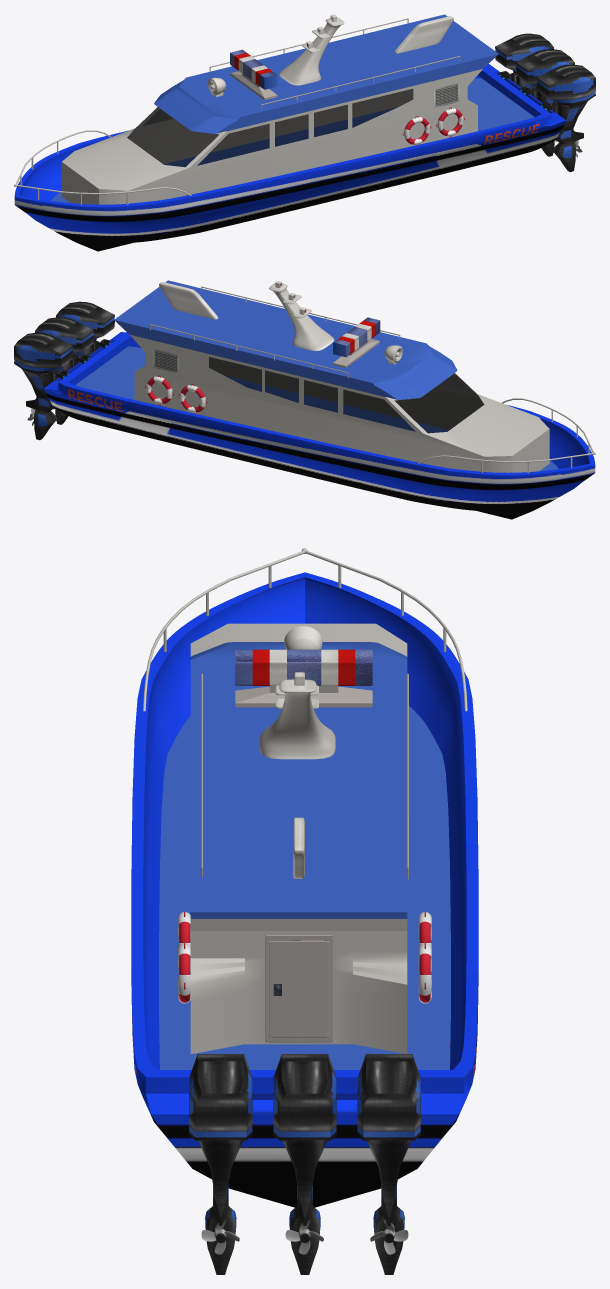
Rendered from marin.glb.
The picture shows the model from 3 angles, top to bottom: view 1: azimuth 30°, elevation 25°; view 2: azimuth 150°, elevation 25°; view 3: azimuth 270°, elevation 25°; orthographic projection. The views are drawn at different scales.
Parts seen in each view (by area): view 1: Object_9, Object_19, Object_36, Object_3, Object_4, Object_34, Object_12, Object_26, Object_25, Object_27, Object_13, Object_33 (+6 smaller); view 2: Object_9, Object_37, Object_36, Object_3, Object_4, Object_34, Object_12, Object_26, Object_25, Object_27, Object_13, Object_33 (+6 smaller); view 3: Object_36, Object_4, Object_34, Object_9, Object_25, Object_26, Object_19, Object_37, Object_32, Object_12, Object_13, Object_27 (+9 smaller).
Boxes of the visible parts, box(x1,y1,x2,y2) form: Object_9: box(14, 69, 482, 204); Object_19: box(14, 94, 565, 251); Object_36: box(154, 14, 498, 133); Object_3: box(127, 89, 413, 166); Object_4: box(14, 66, 551, 207); Object_34: box(51, 78, 534, 202); Object_12: box(214, 16, 453, 96); Object_26: box(495, 33, 595, 105); Object_25: box(513, 49, 587, 171); Object_27: box(495, 46, 595, 158); Object_13: box(16, 77, 226, 205); Object_33: box(209, 18, 460, 109); Object_9: box(130, 335, 595, 472); Object_37: box(44, 362, 595, 518); Object_36: box(114, 280, 457, 399); Object_3: box(209, 357, 483, 433); Object_4: box(58, 332, 595, 475); Object_34: box(75, 346, 558, 471); Object_12: box(159, 282, 396, 364); Object_26: box(14, 301, 114, 373); Object_25: box(22, 317, 96, 440); Object_27: box(14, 314, 114, 426); Object_13: box(384, 345, 593, 473); Object_33: box(149, 286, 400, 378); Object_36: box(190, 642, 407, 918); Object_4: box(131, 572, 478, 1108); Object_34: box(159, 706, 450, 1069); Object_9: box(190, 548, 407, 1054); Object_25: box(195, 1054, 414, 1274); Object_26: box(189, 1054, 420, 1140); Object_19: box(131, 970, 296, 1207); Object_37: box(313, 970, 478, 1207); Object_32: box(265, 935, 332, 1042); Object_12: box(260, 679, 335, 878); Object_13: box(143, 550, 467, 711); Object_27: box(189, 1072, 420, 1234).
Size of the model in its own units: 21.28 by 7.1 by 5.78.
19 materials, 18 textured.
